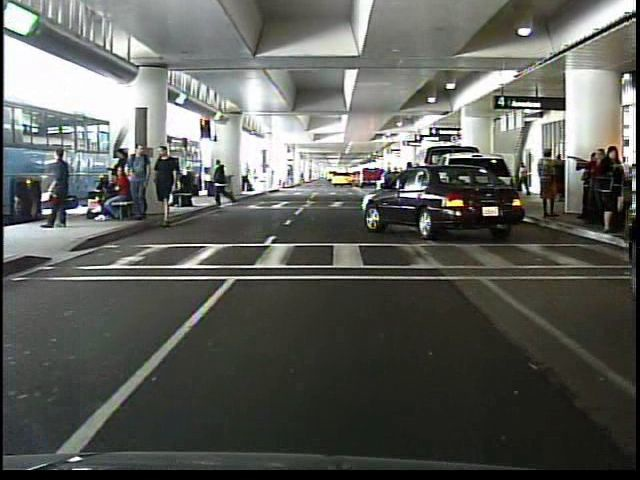person: (47, 143, 80, 235), (535, 148, 560, 221), (212, 157, 237, 207), (517, 157, 535, 199)
